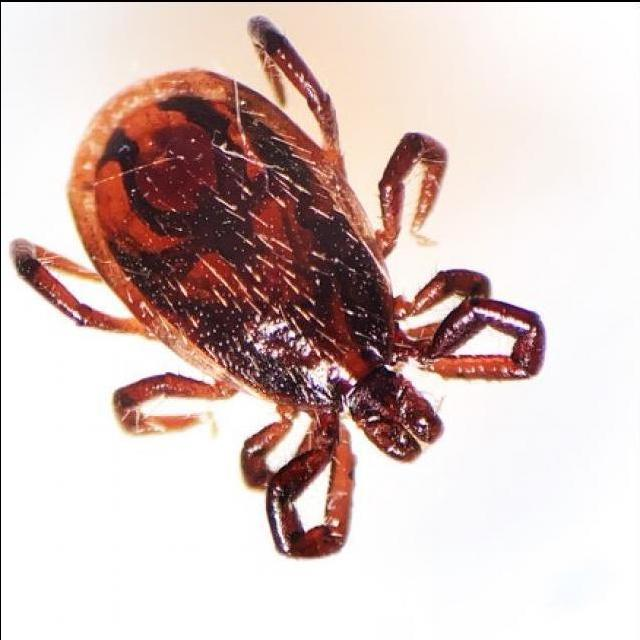Ixodes Ricinus-M: (10, 12, 546, 555)
